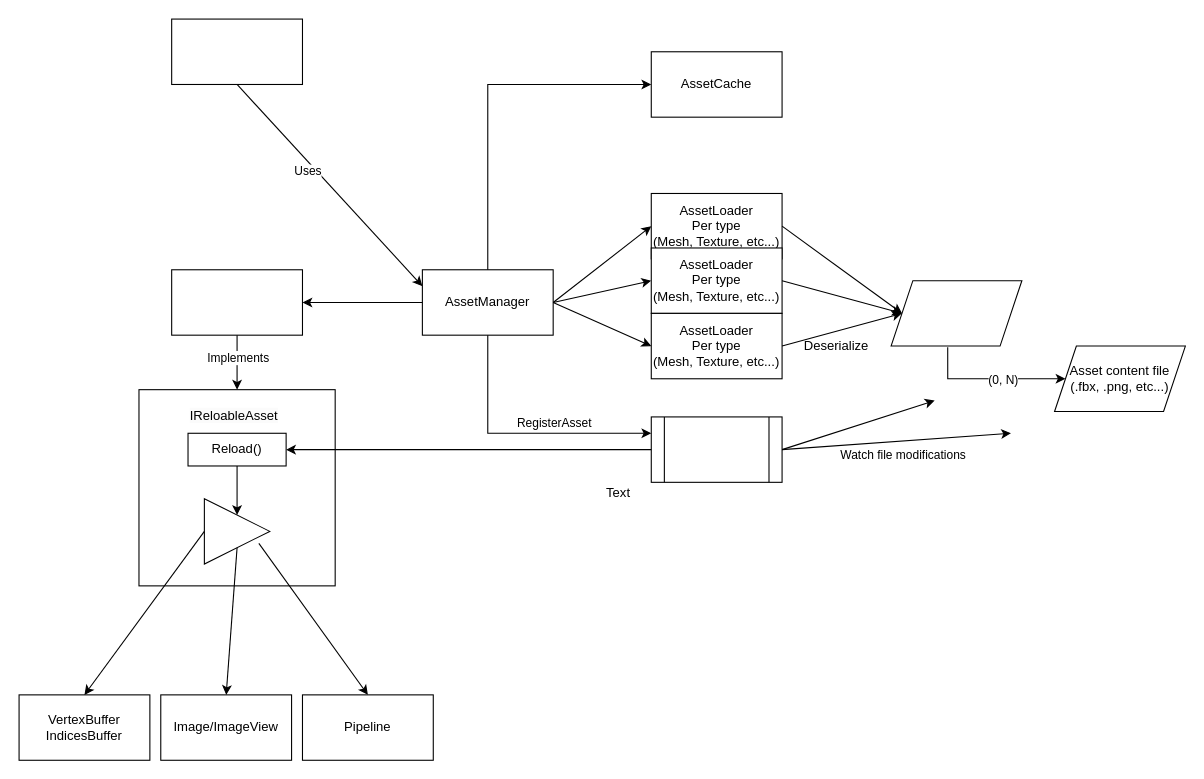
This 1204x779 diagram has some shape labels left out. Here are the shapes that lost their labels. From the top down, the centre of each, then its label:
At [236,51]: "Context".
At [236,302]: "Mesh".
At [956,313]: "AssetDefinition file (yaml)".
At [716,449]: "AssetWatcher".
At [236,531]: "OnReload".
